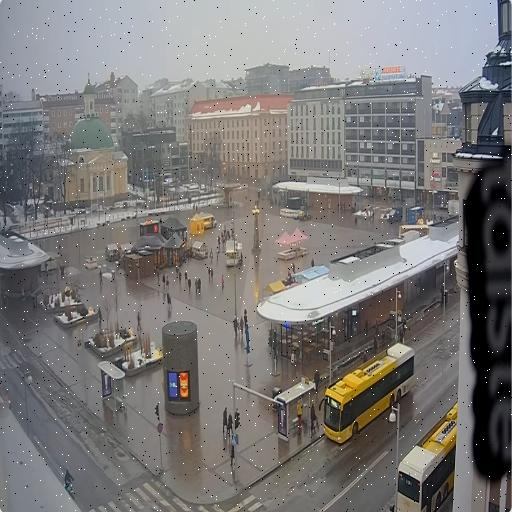bus: (323, 343, 414, 443), (398, 402, 458, 511)
